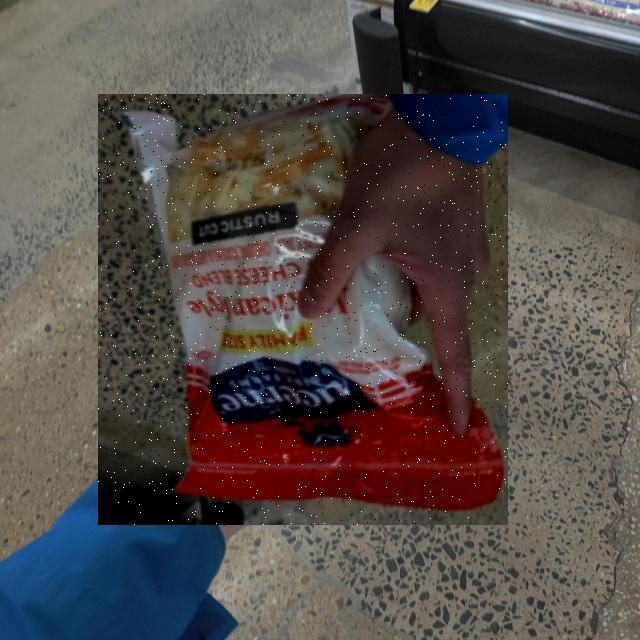Cheese: (98, 94, 508, 525)
